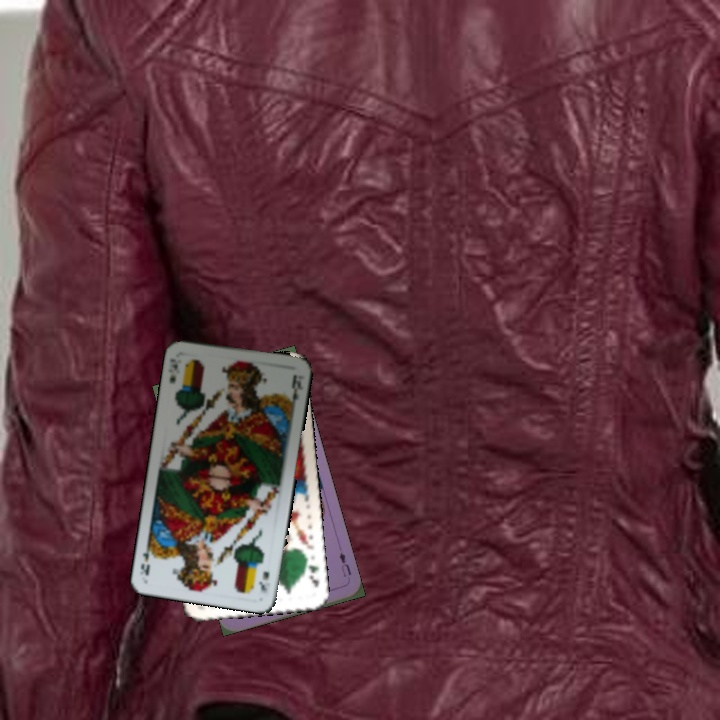EK: (255, 567, 271, 595), (165, 359, 181, 386)
EU: (335, 548, 354, 579)
GK: (301, 554, 322, 590)
